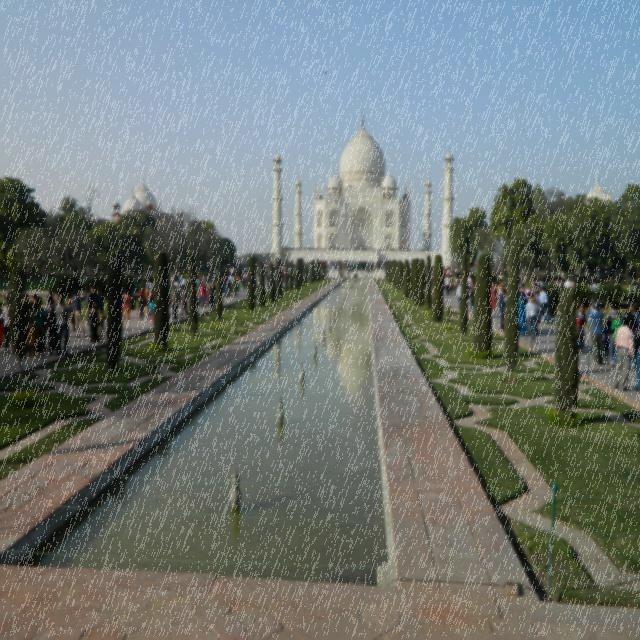pessoa: (612, 316, 635, 392), (23, 293, 45, 357), (586, 302, 606, 366), (55, 296, 74, 356), (43, 294, 60, 356), (608, 311, 623, 368), (44, 296, 59, 350), (587, 298, 602, 350), (72, 288, 87, 338), (284, 246, 432, 251), (524, 294, 538, 344), (346, 260, 386, 276), (0, 296, 11, 352), (600, 320, 612, 364), (576, 304, 587, 352), (544, 266, 566, 290), (124, 262, 148, 284), (86, 306, 99, 344), (83, 263, 108, 282), (546, 290, 558, 326), (537, 286, 548, 324), (633, 326, 639, 394), (98, 307, 109, 344), (517, 296, 527, 336), (86, 286, 96, 326), (170, 284, 181, 320), (518, 294, 528, 332), (532, 286, 542, 324), (499, 288, 507, 332), (180, 284, 190, 318), (281, 262, 296, 284), (68, 294, 76, 332), (0, 300, 6, 350), (578, 314, 586, 350), (624, 309, 636, 332), (574, 304, 584, 330), (122, 288, 130, 320), (542, 292, 550, 324), (268, 260, 277, 288), (213, 268, 220, 304), (208, 280, 216, 310), (572, 268, 590, 281), (174, 278, 182, 306), (198, 282, 206, 308), (492, 262, 504, 279), (223, 273, 231, 298), (606, 269, 626, 279), (607, 303, 618, 321), (491, 285, 498, 313), (148, 290, 154, 322), (145, 284, 151, 316), (96, 288, 104, 312), (590, 281, 598, 304), (468, 287, 474, 317), (221, 274, 228, 298), (167, 280, 173, 308), (304, 260, 312, 280), (138, 294, 144, 320), (444, 274, 451, 296), (139, 286, 146, 308), (633, 305, 640, 327), (46, 288, 55, 305), (524, 284, 532, 302), (456, 282, 462, 306), (202, 278, 208, 302), (447, 262, 458, 275), (518, 290, 528, 304), (334, 260, 346, 271), (442, 266, 447, 292), (145, 278, 153, 294), (66, 266, 82, 274), (452, 275, 458, 296), (228, 272, 233, 296), (234, 259, 244, 271), (244, 260, 248, 288), (498, 280, 504, 298), (7, 290, 16, 302), (457, 265, 462, 286), (90, 300, 98, 313), (494, 282, 498, 308), (263, 262, 267, 288), (199, 264, 212, 272), (255, 274, 260, 294), (448, 280, 454, 296), (241, 274, 247, 290), (204, 282, 208, 306), (627, 302, 635, 314), (430, 266, 434, 290), (424, 264, 428, 288), (565, 276, 571, 290), (234, 275, 238, 296), (534, 278, 540, 291), (526, 292, 532, 304), (266, 270, 270, 288), (236, 274, 240, 292), (196, 276, 200, 294), (182, 278, 188, 290), (504, 295, 508, 313), (470, 265, 478, 274), (173, 272, 180, 282), (178, 280, 182, 297), (538, 267, 544, 278), (472, 290, 475, 312), (531, 278, 535, 294), (530, 272, 536, 282), (539, 278, 544, 290), (468, 282, 473, 294), (207, 286, 210, 306), (570, 280, 576, 290), (256, 262, 260, 276), (499, 279, 502, 297), (133, 284, 139, 293), (519, 286, 525, 294), (197, 292, 200, 308), (171, 272, 175, 284), (448, 274, 456, 280), (208, 279, 213, 288), (520, 279, 525, 288), (402, 262, 405, 276), (255, 276, 258, 290), (596, 269, 600, 279), (231, 266, 235, 276), (199, 274, 203, 284), (179, 274, 183, 284), (314, 260, 318, 270), (636, 271, 640, 280), (587, 282, 592, 289), (326, 268, 329, 279), (342, 267, 345, 278), (187, 278, 190, 289), (320, 260, 323, 271), (468, 276, 472, 284), (204, 274, 208, 282), (490, 282, 494, 290), (338, 268, 341, 278), (341, 268, 344, 278), (331, 260, 334, 270), (327, 260, 330, 270), (197, 288, 200, 298), (224, 265, 229, 271), (519, 266, 524, 272), (329, 260, 332, 269), (325, 260, 328, 269), (518, 273, 522, 279), (506, 280, 508, 292), (207, 277, 210, 284), (452, 280, 454, 290), (409, 261, 411, 271), (243, 271, 246, 277), (449, 280, 452, 286), (518, 278, 520, 287), (266, 262, 268, 270), (506, 266, 509, 271), (344, 271, 346, 278), (230, 267, 232, 273), (42, 264, 44, 270), (202, 276, 205, 280), (210, 276, 213, 280), (468, 282, 470, 286), (198, 274, 200, 278), (592, 282, 594, 286)
